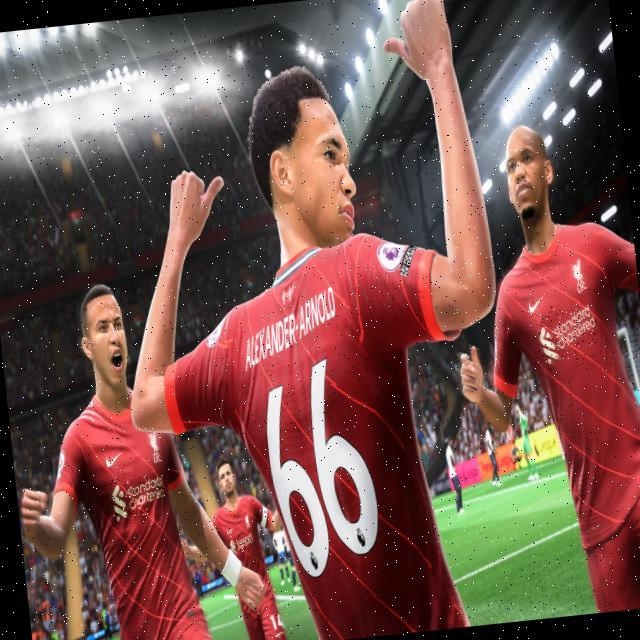Nike: (528, 294, 546, 313), (105, 452, 122, 469), (275, 631, 285, 638), (226, 528, 233, 534)
Standard Chartered: (536, 302, 599, 365), (110, 475, 167, 521), (229, 532, 255, 554)
